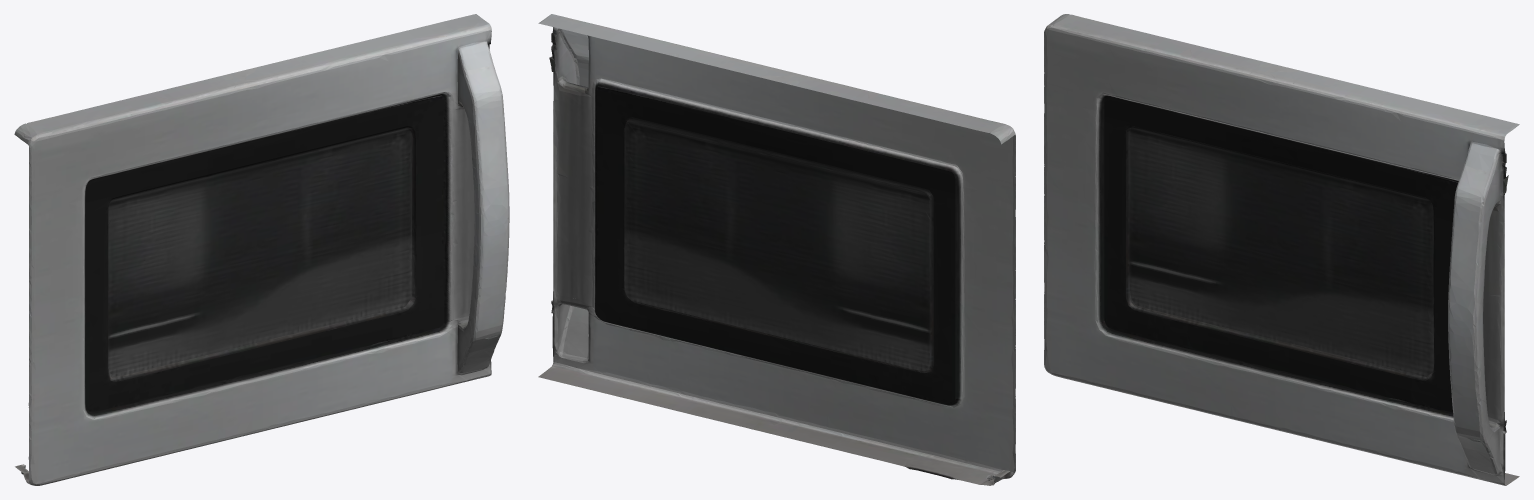
The model's file is microwave_door.glb.
3 views of the same model, side by side, from view 1: azimuth 30°, elevation 25°; view 2: azimuth 150°, elevation 25°; view 3: azimuth 330°, elevation 25° (orthographic).
Visible parts, largest first — view 1: source_surface_0; view 2: source_surface_0; view 3: source_surface_0.
Boxes of the visible parts, x1,y1,x2,y2 form: source_surface_0: (14,14,509,485); source_surface_0: (538,14,1015,485); source_surface_0: (1044,14,1519,485).
Size of the model in its own units: 0.4146 by 0.3039 by 0.0609.
Materials: 1 (1 with a texture image).
